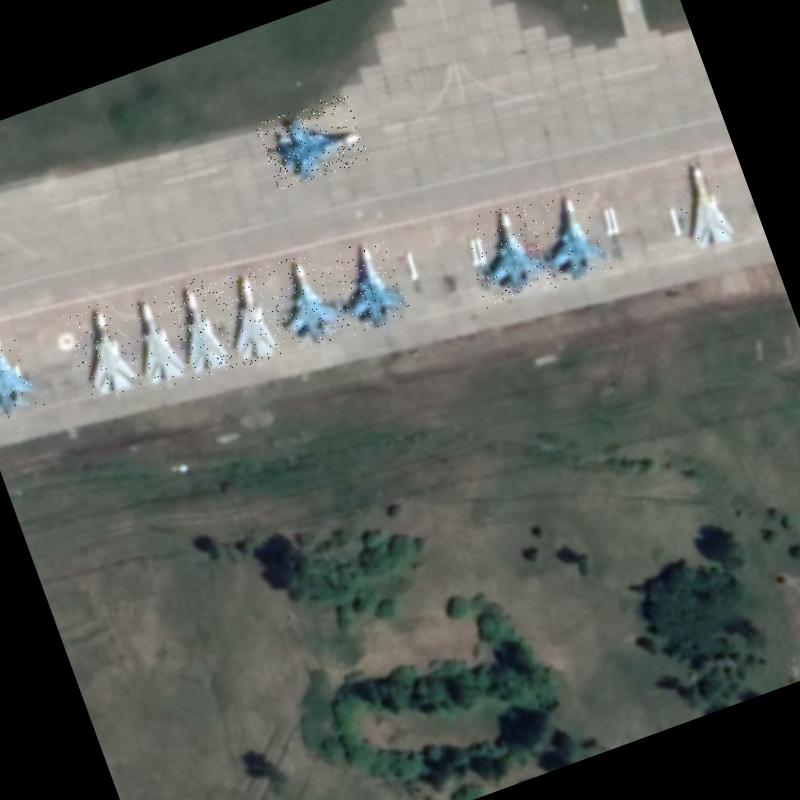A19: (254, 90, 372, 194), (456, 198, 555, 308), (255, 248, 346, 356), (525, 184, 616, 290), (320, 234, 412, 338), (0, 319, 44, 425)
A20: (657, 150, 747, 262), (60, 297, 144, 404), (160, 274, 237, 382), (206, 266, 284, 370), (116, 291, 191, 394)
